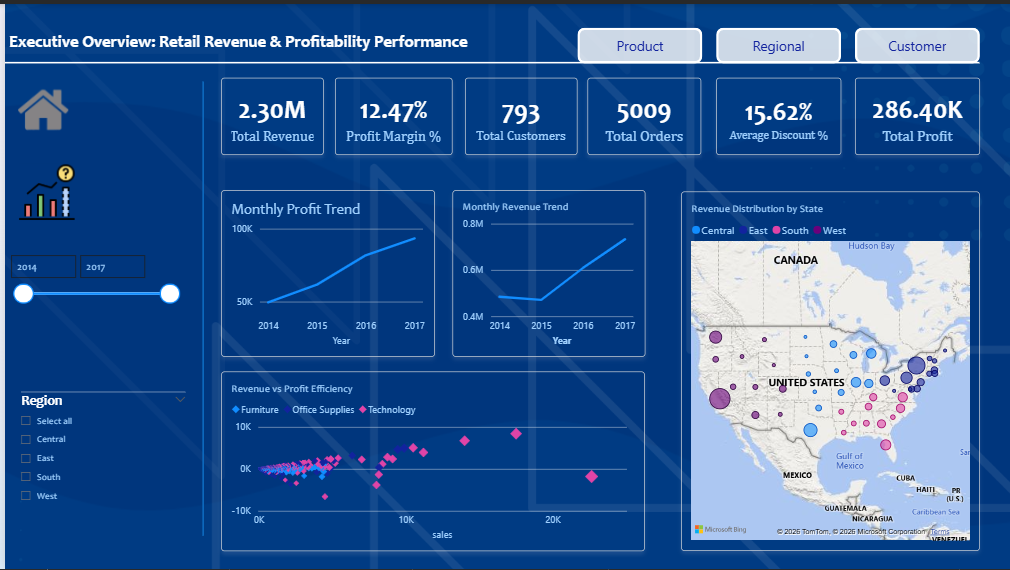

What the dashboard file says about the page in this screenshot:
{"tool":"powerbi","page":{"name":"Executive Overview","canvas":[1280,720],"ordinal":1},"visuals":[{"type":"textbox","box":[0,29.9,1214.2,51.3],"z":0},{"type":"card","fields":{"Values":["superstore_cleaned.Total Revenue"]},"box":[275.3,93.9,130.5,98.7],"z":1000},{"type":"card","fields":{"Values":["superstore_cleaned.Total Profit"]},"box":[1082.3,93.9,159.2,98.7],"z":2000},{"type":"card","fields":{"Values":["superstore_cleaned.Profit Margin %"]},"box":[420.2,93.9,149.6,98.7],"z":3000},{"type":"card","fields":{"Values":["superstore_cleaned.Total Orders"]},"box":[741.7,93.9,144.8,98.7],"z":4000},{"type":"card","fields":{"Values":["superstore_cleaned.Total Customers"]},"box":[585.7,93.9,143.2,98.7],"z":5000},{"type":"card","fields":{"Values":["superstore_cleaned.Average Discount %"]},"box":[905.6,93.9,159.2,98.7],"z":6000},{"type":"lineChart","title":"Monthly Revenue Trend","fields":{"Category":["superstore_cleaned.order_year_month.Variation.Date Hierarchy.Year","superstore_cleaned.order_year_month.Variation.Date Hierarchy.Quarter","superstore_cleaned.order_year_month.Variation.Date Hierarchy.Month","superstore_cleaned.order_year_month.Variation.Date Hierarchy.Day"],"Y":["superstore_cleaned.Total Revenue"]},"box":[569.3,236.4,245.9,211.8],"z":7000},{"type":"lineChart","title":"Monthly Profit Trend","fields":{"Category":["superstore_cleaned.order_year_month.Variation.Date Hierarchy.Year","superstore_cleaned.order_year_month.Variation.Date Hierarchy.Quarter","superstore_cleaned.order_year_month.Variation.Date Hierarchy.Month","superstore_cleaned.order_year_month.Variation.Date Hierarchy.Day"],"Y":["superstore_cleaned.Total Profit"]},"box":[276.1,236.4,272.3,211.8],"z":8000},{"type":"map","title":"Revenue Distribution by State","fields":{"Category":["superstore_cleaned.state"],"Size":["superstore_cleaned.Total Revenue"],"Series":["superstore_cleaned.region"]},"box":[860.5,238.3,380.1,457.7],"z":9000},{"type":"scatterChart","title":"Revenue vs Profit Efficiency","fields":{"X":["superstore_cleaned.sales"],"Y":["superstore_cleaned.profit"],"Size":["Sum(superstore_cleaned.sales)1"],"Series":["superstore_cleaned.category"]},"box":[276.1,467.1,539,228.8],"z":10000},{"type":"slicer","fields":{"Values":["superstore_cleaned.order_year"]},"box":[0,315.1,226,89.1],"z":11000},{"type":"slicer","fields":{"Values":["superstore_cleaned.region"]},"box":[13.2,493.6,225.1,183.5],"z":12000},{"type":"shape","box":[0,0,1240.7,149.4],"z":13000},{"type":"actionButton","box":[728.1,30.3,158.9,45.4],"z":14000},{"type":"actionButton","box":[905.9,30.3,158.9,45.4],"z":15000},{"type":"actionButton","box":[1081.8,30.3,158.9,45.4],"z":16000},{"type":"actionButton","box":[13.2,98.3,100.2,71.9],"z":17000},{"type":"shape","box":[175.9,98.3,151.3,578.7],"z":18000},{"type":"actionButton","box":[12.7,192.6,81.2,93.9],"z":19000}]}

Visuals, with their boxes in screenshot pixels (x1, y1, x2, y2), scaled from the page's 1280x720 canvas onto the 1010x570 screenshot:
textbox: x1=0, y1=24, x2=958, y2=64
card - superstore_cleaned.Total Revenue: x1=217, y1=74, x2=320, y2=152
card - superstore_cleaned.Total Profit: x1=854, y1=74, x2=980, y2=152
card - superstore_cleaned.Profit Margin %: x1=332, y1=74, x2=450, y2=152
card - superstore_cleaned.Total Orders: x1=585, y1=74, x2=700, y2=152
card - superstore_cleaned.Total Customers: x1=462, y1=74, x2=575, y2=152
card - superstore_cleaned.Average Discount %: x1=715, y1=74, x2=840, y2=152
"Monthly Revenue Trend" lineChart: x1=449, y1=187, x2=643, y2=355
"Monthly Profit Trend" lineChart: x1=218, y1=187, x2=433, y2=355
"Revenue Distribution by State" map: x1=679, y1=189, x2=979, y2=551
"Revenue vs Profit Efficiency" scatterChart: x1=218, y1=370, x2=643, y2=551
slicer - superstore_cleaned.order_year: x1=0, y1=249, x2=178, y2=320
slicer - superstore_cleaned.region: x1=10, y1=391, x2=188, y2=536
shape: x1=0, y1=0, x2=979, y2=118
actionButton: x1=575, y1=24, x2=700, y2=60
actionButton: x1=715, y1=24, x2=840, y2=60
actionButton: x1=854, y1=24, x2=979, y2=60
actionButton: x1=10, y1=78, x2=89, y2=135
shape: x1=139, y1=78, x2=258, y2=536
actionButton: x1=10, y1=152, x2=74, y2=227
